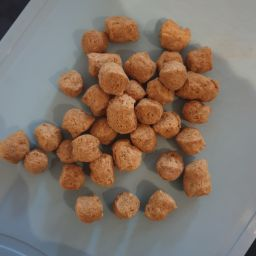Glycine max(soyabean): (6, 14, 237, 247), (110, 98, 184, 152), (158, 143, 222, 202), (152, 17, 197, 89), (74, 19, 148, 54), (117, 189, 177, 228), (48, 59, 91, 99), (64, 191, 108, 227), (3, 129, 30, 161)
